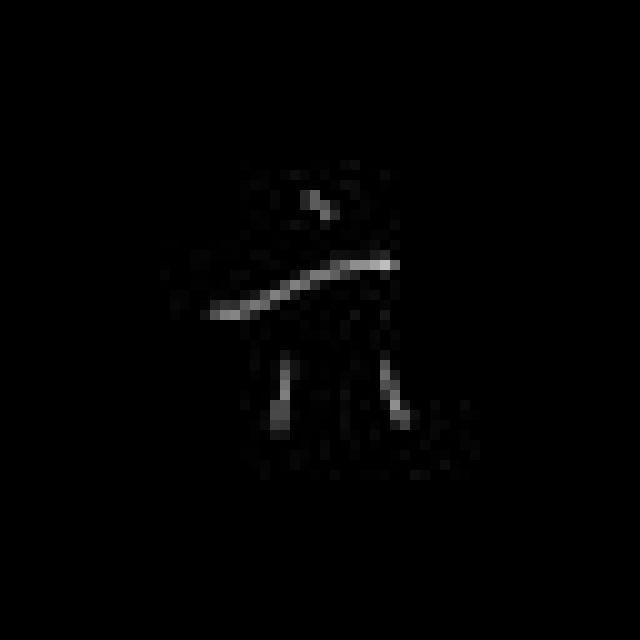6 -six-: (206, 182, 421, 457)
